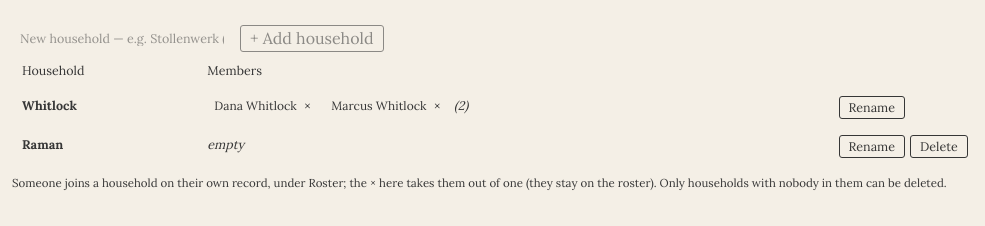
Scenario: HouseholdsManager — members › Leader_SeesTheError_WhenRemovalFails
Click the button named "Remove Dana Whitlock from Whitlock".
click(308, 106)  # box [299,98,316,112]
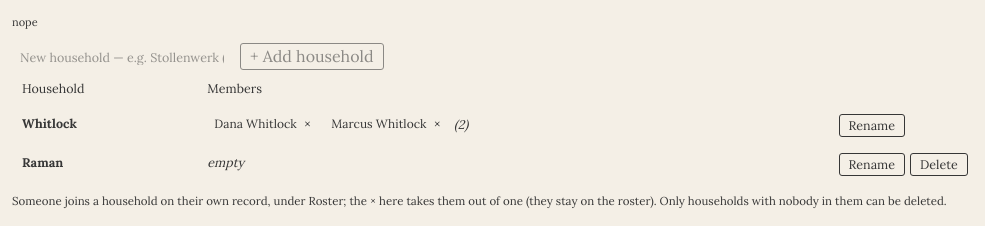
expect the text "nope" is shown: met, box [12,15,38,29]
